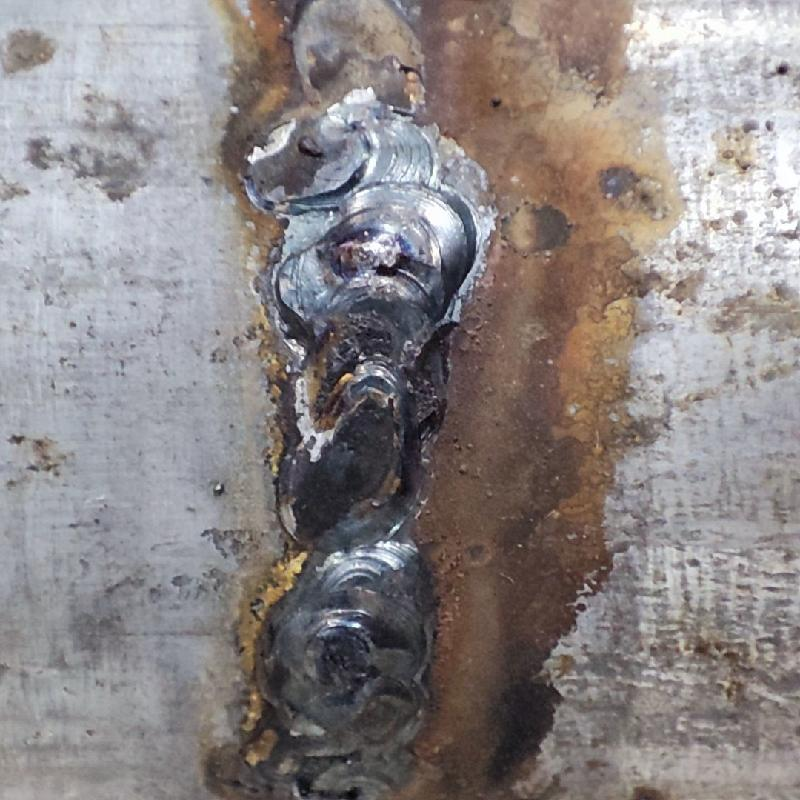Not_fully_soldered: (240, 4, 450, 190)
wrong_size: (251, 191, 479, 748)
